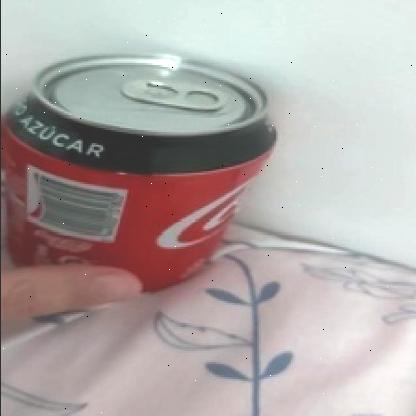Can: (0, 52, 276, 293)
